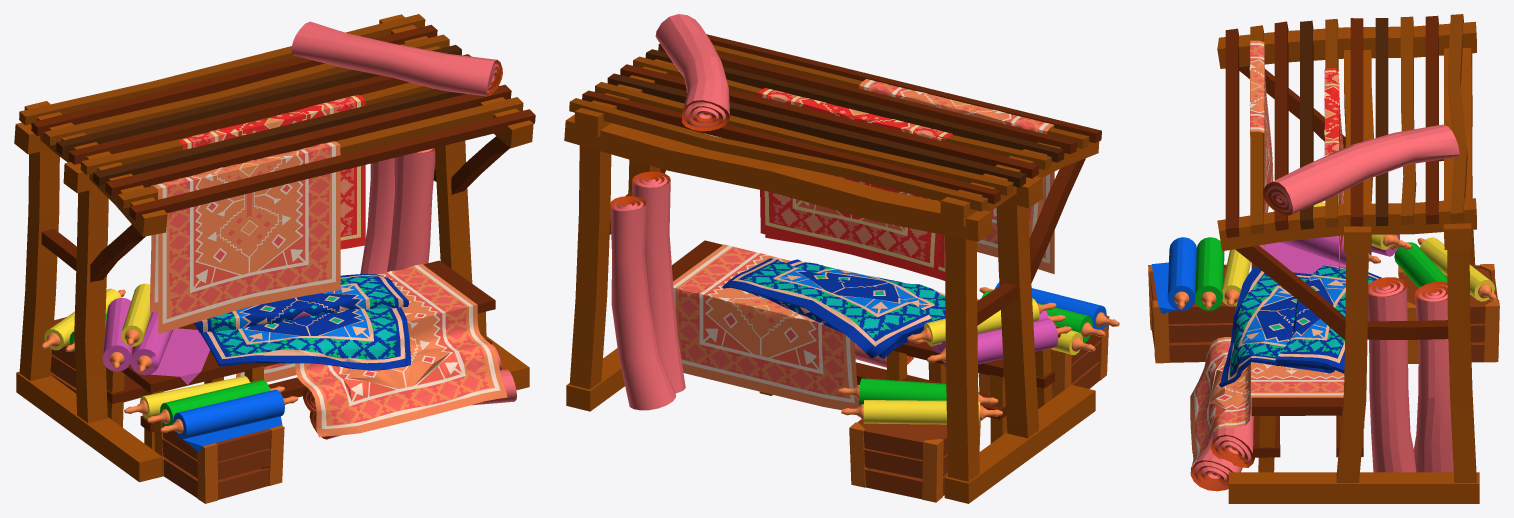
Rendered from tapetes.obj.
3 renders of one model, left to right at view 1: azimuth 30°, elevation 25°; view 2: azimuth 150°, elevation 25°; view 3: azimuth 270°, elevation 25°, orthographic. The views are drawn at different scales.
Visible parts, largest first — view 1: Cube.067; view 2: Cube.067; view 3: Cube.067.
Part boxes in pixels (x1=…): Cube.067: x1=14, y1=14, x2=535, y2=503; Cube.067: x1=564, y1=14, x2=1119, y2=503; Cube.067: x1=1148, y1=14, x2=1499, y2=503.
Size of the model in its own units: 2.04 by 1.53 by 1.51.
Materials: 1 (1 with a texture image).
